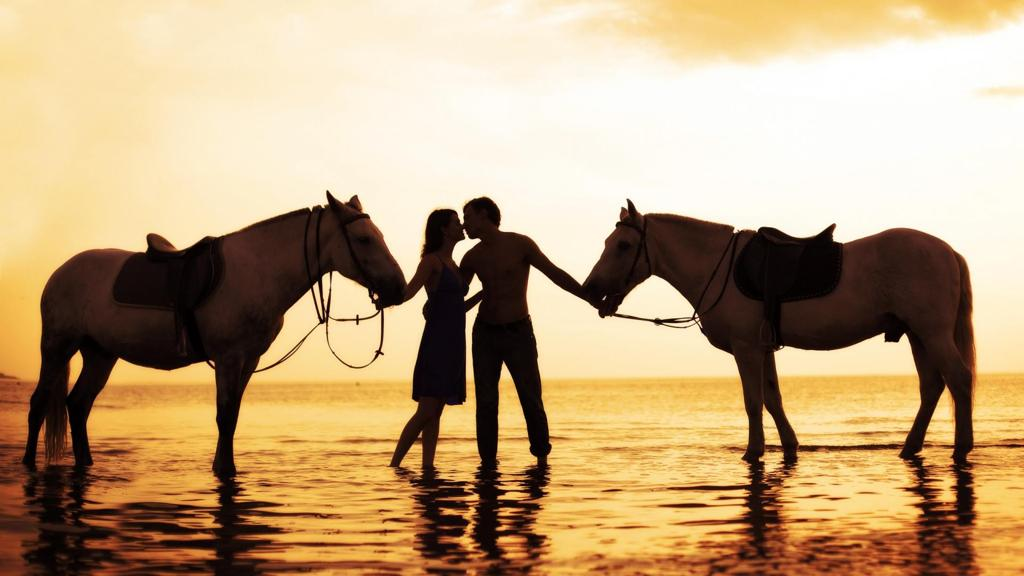face: (462, 206, 483, 239), (445, 211, 463, 243)
